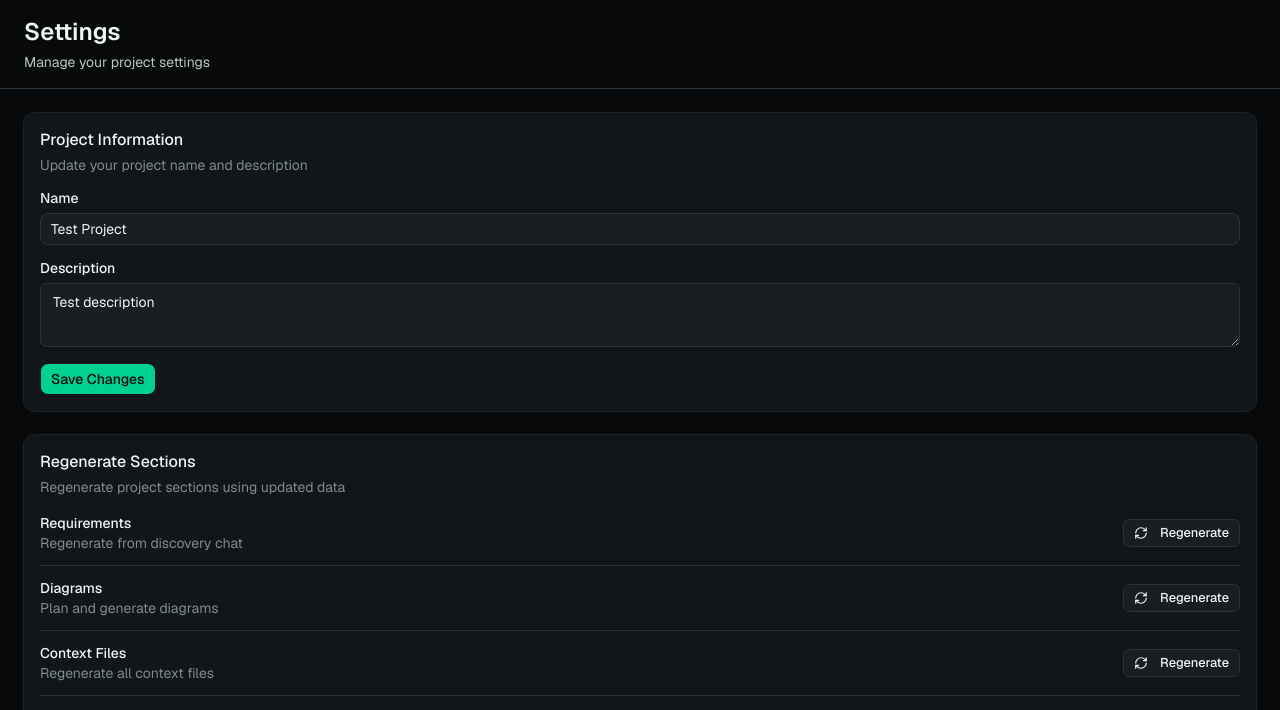
Test case: ProjectSettings › saves updated project information
Step 1. Replace the text in the field labelled "Name" with "Updated Project" → point(640, 229), box x1=40 y1=213 x2=1240 y2=245
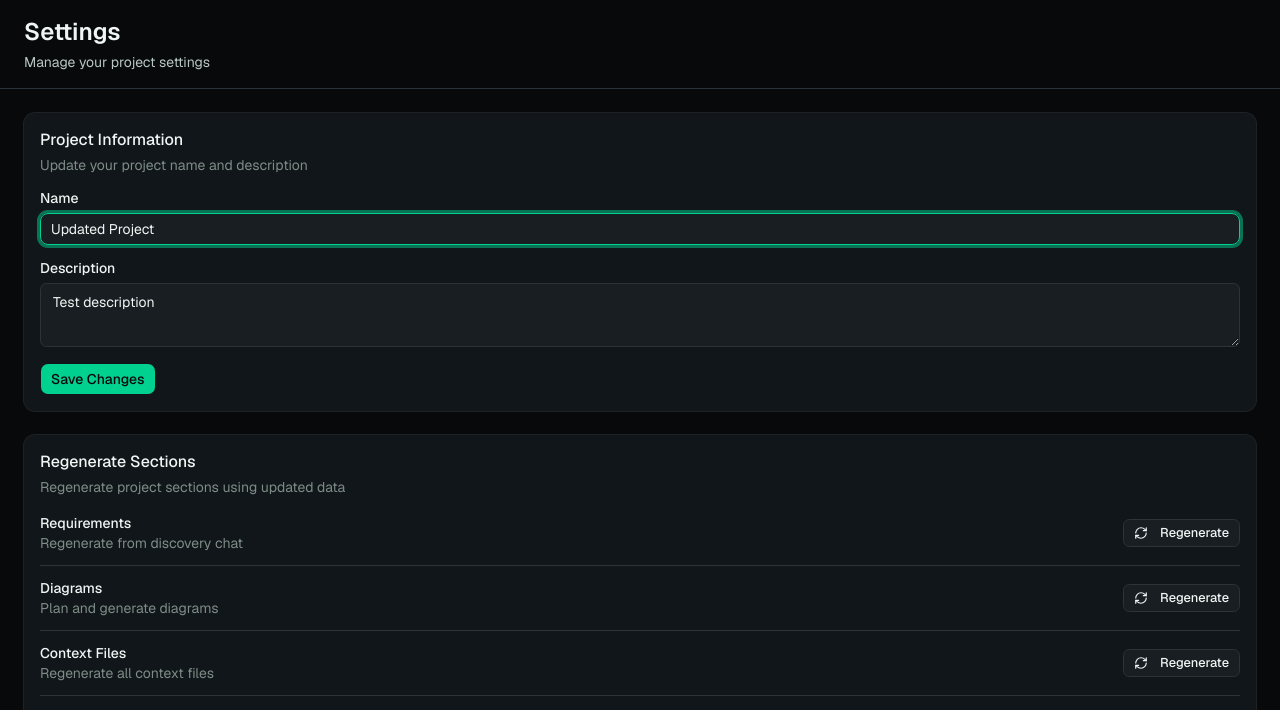
Step 2. Click the button "Save Changes" → point(98, 379), box x1=40 y1=363 x2=156 y2=395
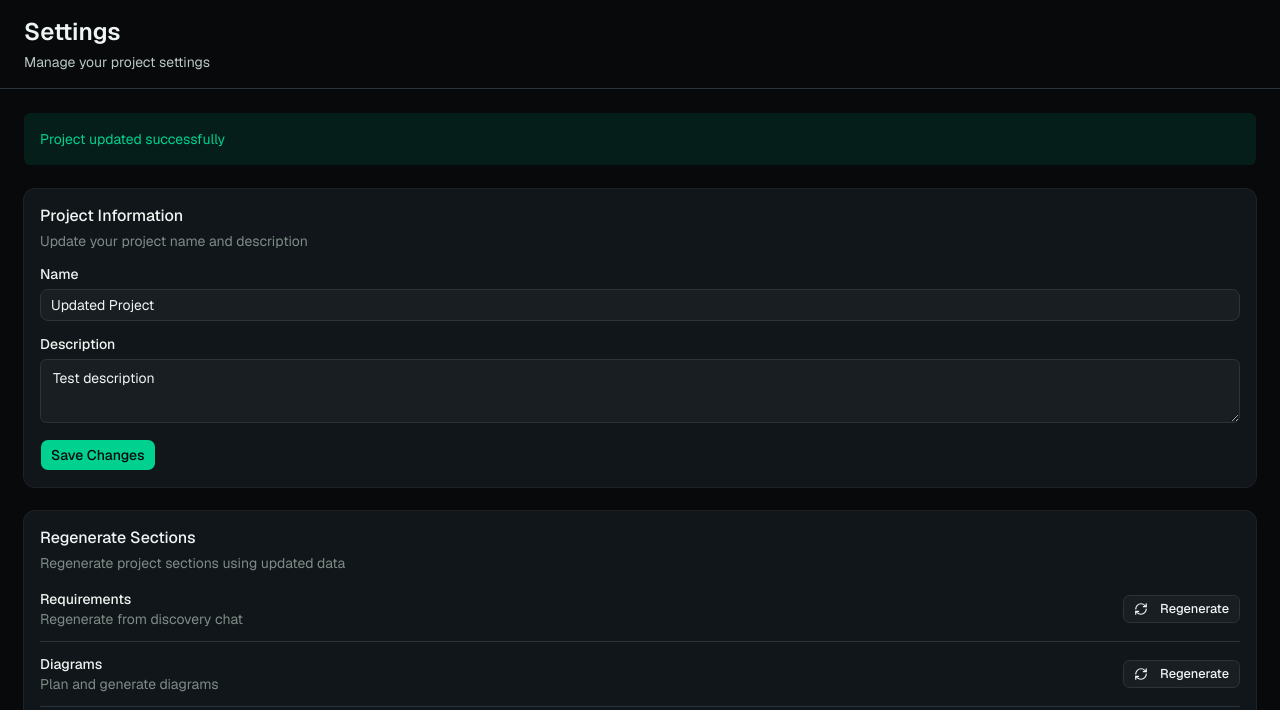
Now the text "Project updated successfully" is shown, box x1=24 y1=113 x2=1256 y2=165
